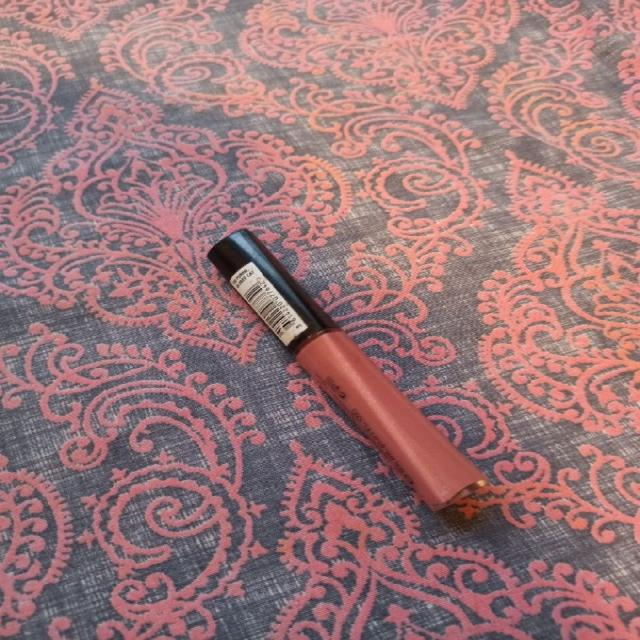lipstick: (205, 227, 488, 512)
